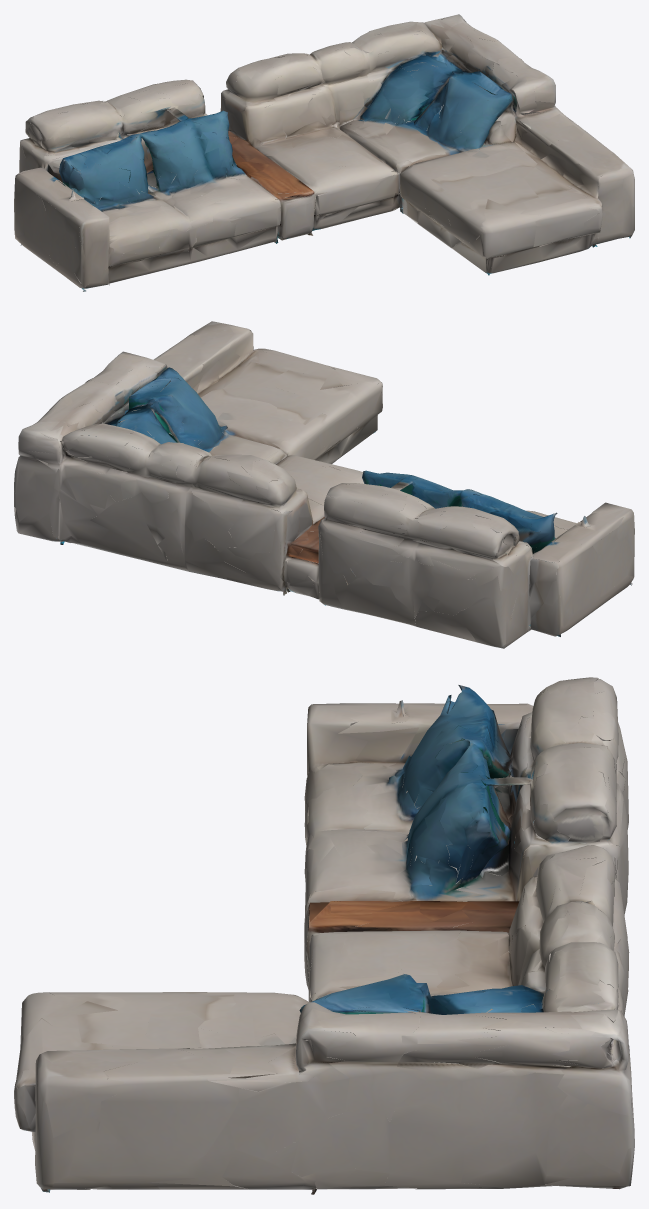
The model's file is Worldc397bcc62b.glb.
3 views of the same model, one above another, from view 1: azimuth 30°, elevation 25°; view 2: azimuth 150°, elevation 25°; view 3: azimuth 270°, elevation 25° (orthographic). The views are drawn at different scales.
Parts seen in each view (by area): view 1: Worldc397bcc62b; view 2: Worldc397bcc62b; view 3: Worldc397bcc62b.
Part boxes in pixels (x1,y1,x2,y2): Worldc397bcc62b: [14, 14, 634, 291]; Worldc397bcc62b: [14, 321, 634, 648]; Worldc397bcc62b: [14, 677, 634, 1194].
Size of the model in its own units: 7 by 1.53 by 4.82.
1 material, 1 textured.
